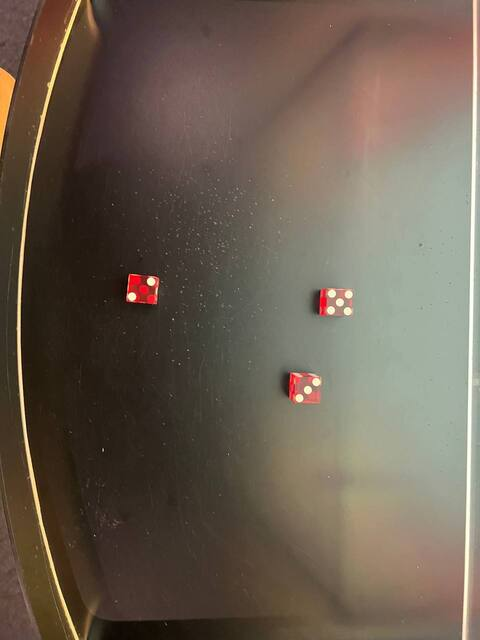five: (320, 285, 357, 320)
three: (288, 373, 325, 408)
two: (122, 270, 161, 307)
